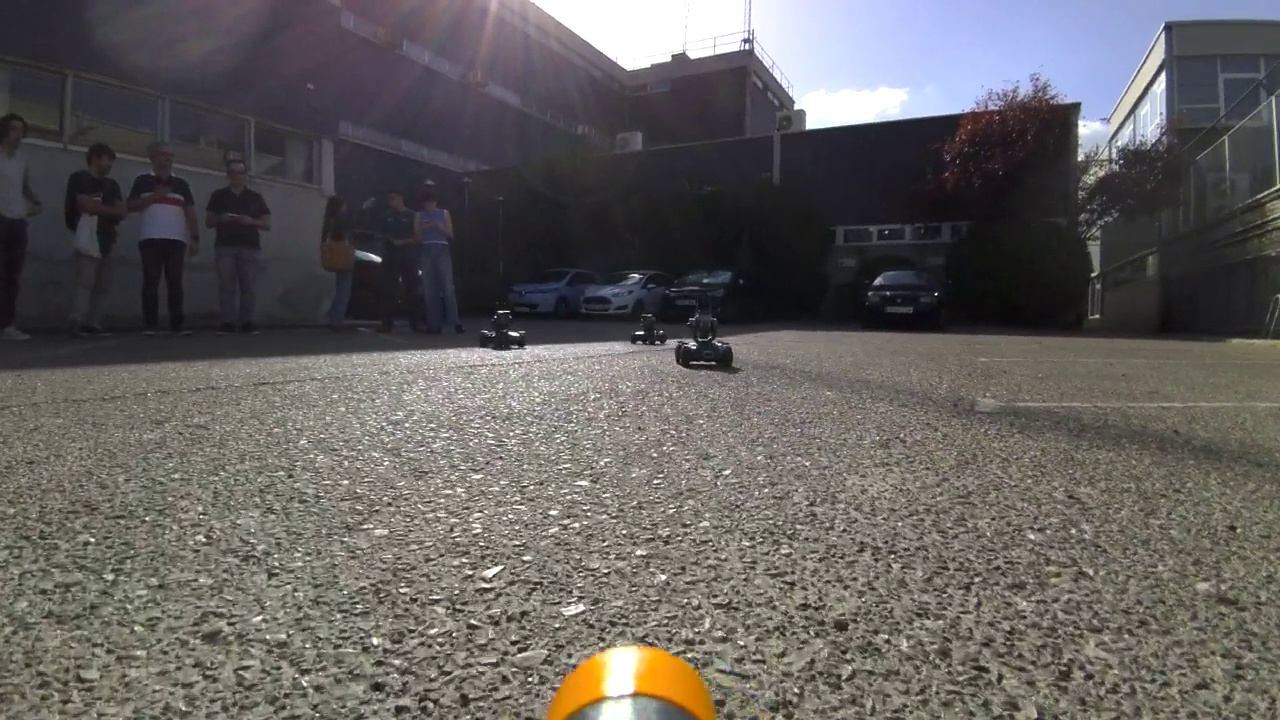robot: (671, 311, 741, 373), (472, 309, 529, 352), (628, 311, 663, 346)
